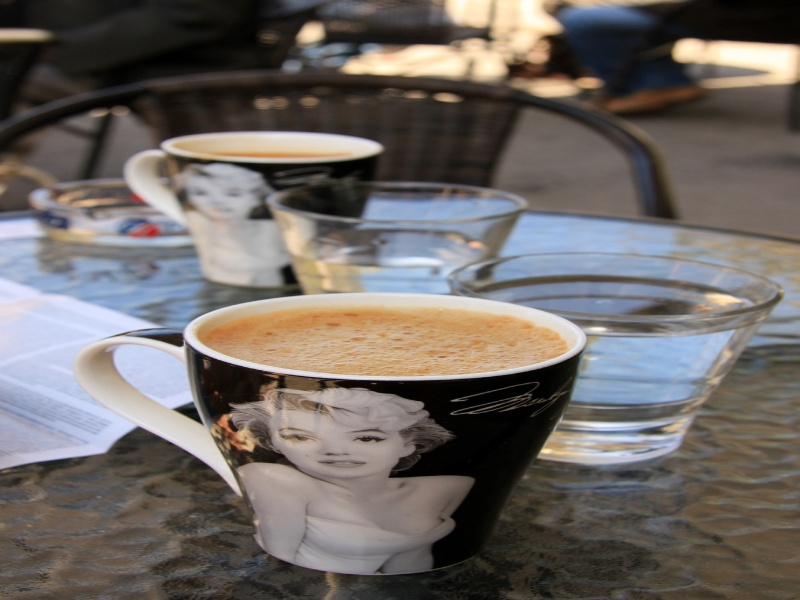cup: (64, 282, 601, 583), (116, 117, 392, 288)
